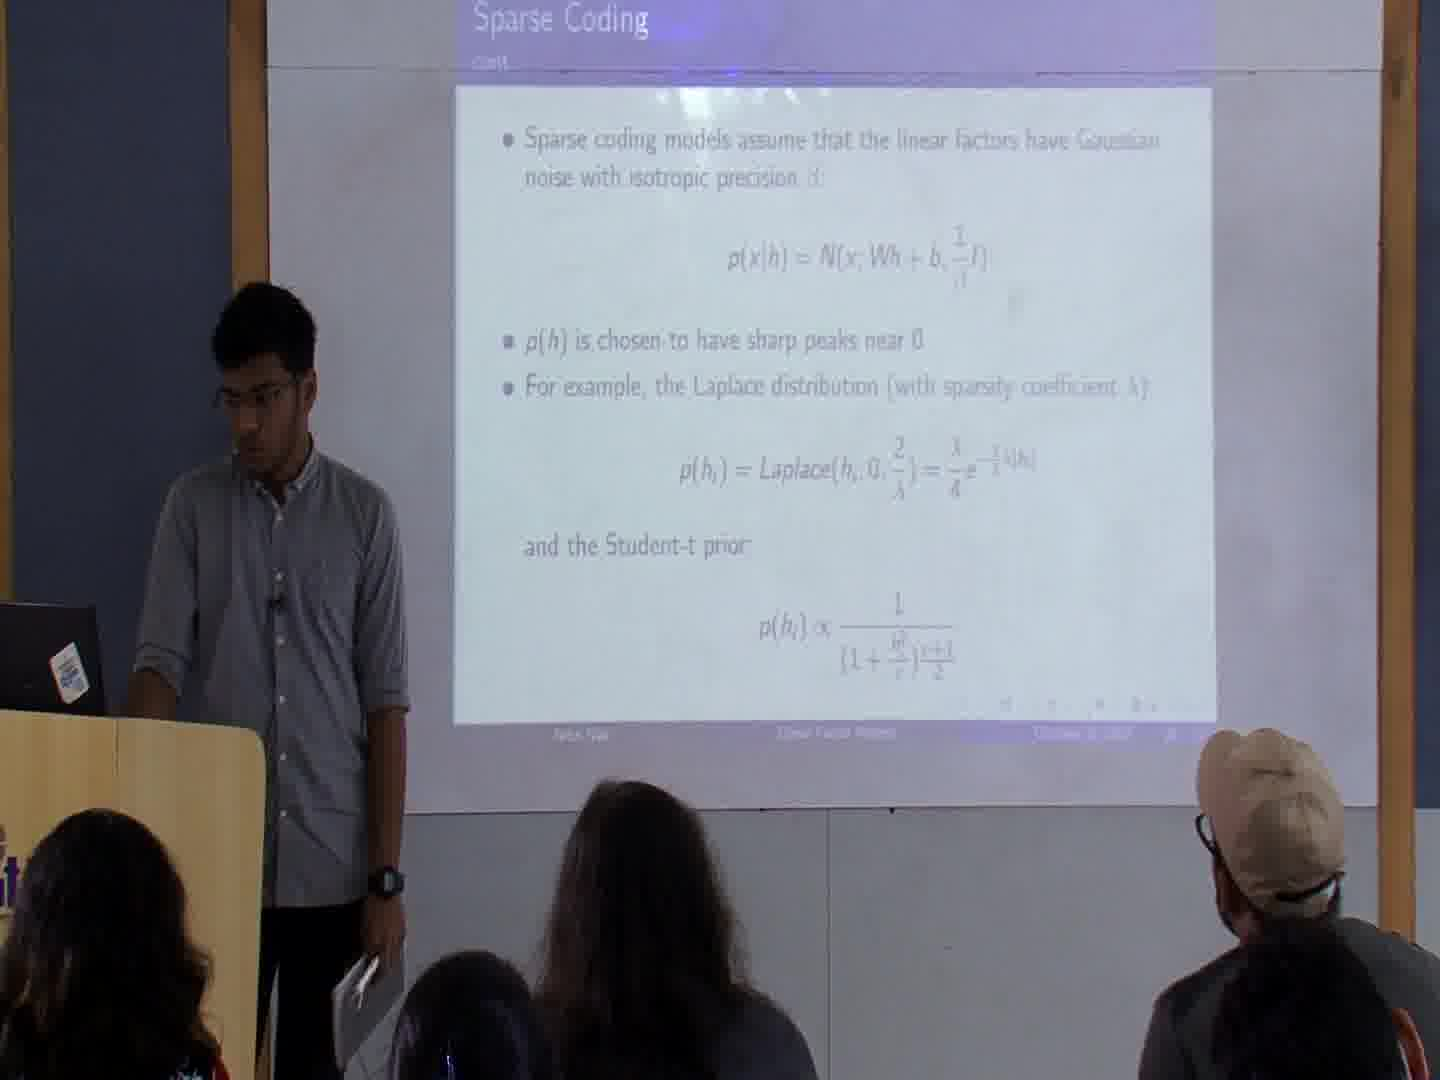eq: (674, 432, 1043, 511), (757, 587, 969, 686), (720, 223, 993, 287)
